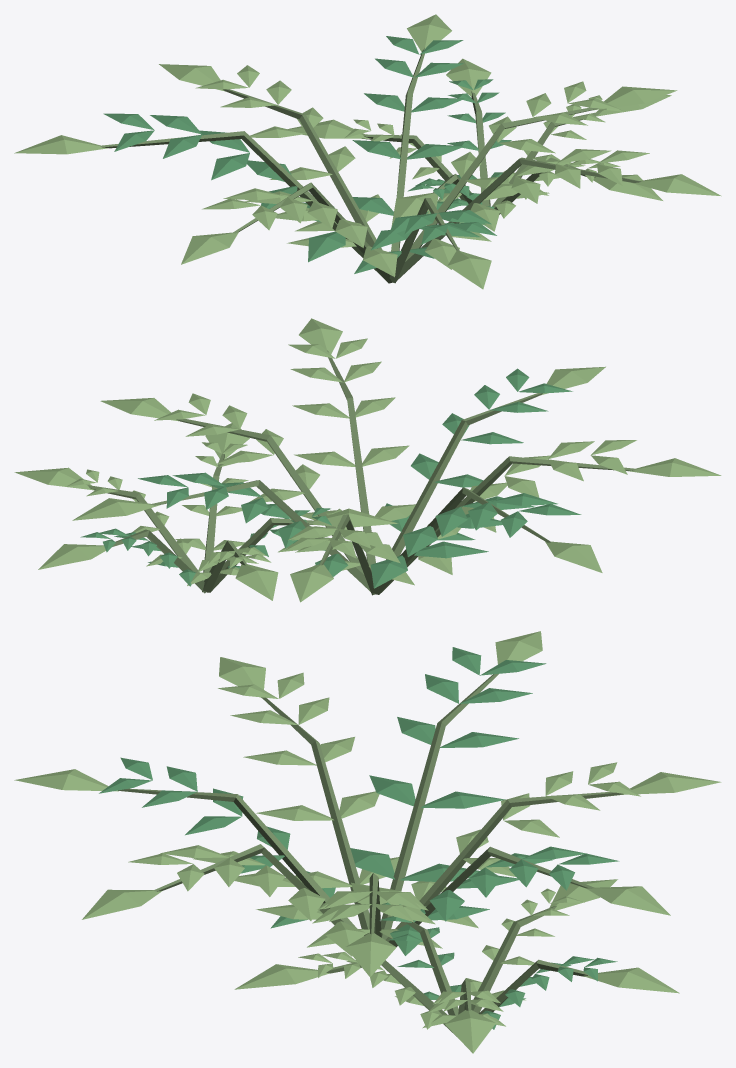
Rendered from fern_cluster.glb.
The picture shows the model from 3 angles, top to bottom: view 1: azimuth 30°, elevation 25°; view 2: azimuth 150°, elevation 25°; view 3: azimuth 270°, elevation 25°; orthographic projection. The views are drawn at different scales.
Visible parts, largest first — view 1: fern_cluster / mesh; view 2: fern_cluster / mesh; view 3: fern_cluster / mesh.
Boxes of the visible parts, <box> form: fern_cluster / mesh: <box>14,14,721,289</box>; fern_cluster / mesh: <box>14,318,721,602</box>; fern_cluster / mesh: <box>14,631,721,1053</box>.
Bounding box in the file's own units: 2.83 × 0.7479 × 2.48.
